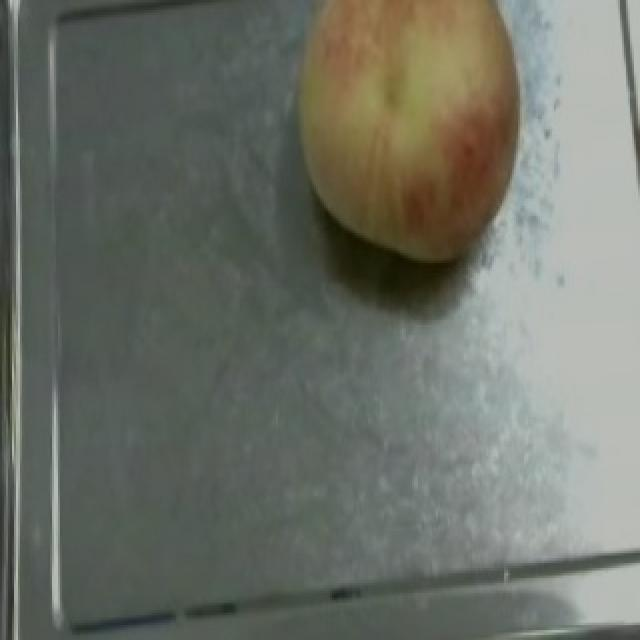Fruit: (272, 0, 554, 288)
